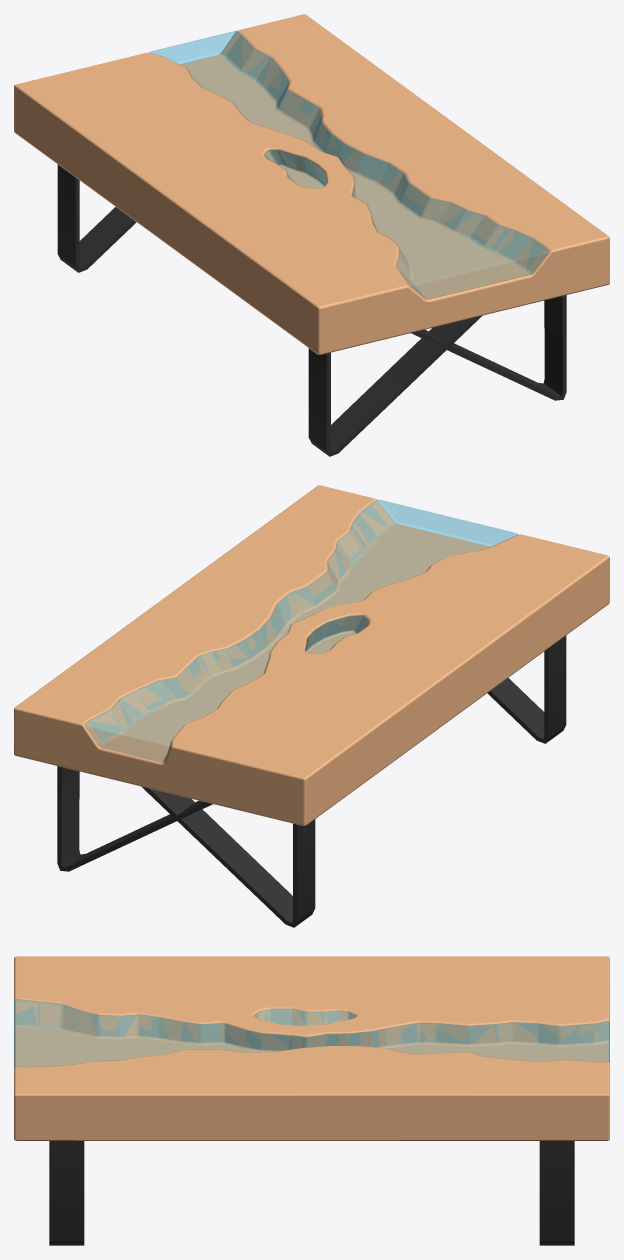
Rendered from white_table_1.glb.
3 renders of one model, top to bottom at view 1: azimuth 30°, elevation 25°; view 2: azimuth 150°, elevation 25°; view 3: azimuth 270°, elevation 25°, orthographic. The views are drawn at different scales.
Parts seen in each view (by area): view 1: Table.001, Plane.011, Plane.012; view 2: Table.001, Plane.011, Plane.012; view 3: Table.001, Plane.011, Plane.012.
Boxes of the visible parts, bbox=[...] form: Table.001: bbox=[14, 14, 609, 354]; Plane.011: bbox=[149, 31, 549, 299]; Plane.012: bbox=[57, 164, 566, 456]; Table.001: bbox=[14, 485, 609, 825]; Plane.011: bbox=[84, 500, 517, 762]; Plane.012: bbox=[57, 635, 566, 927]; Table.001: bbox=[14, 956, 609, 1140]; Plane.011: bbox=[14, 999, 609, 1067]; Plane.012: bbox=[49, 1141, 574, 1245].
Size of the model in its own units: 1.51 by 0.8352 by 2.73.
